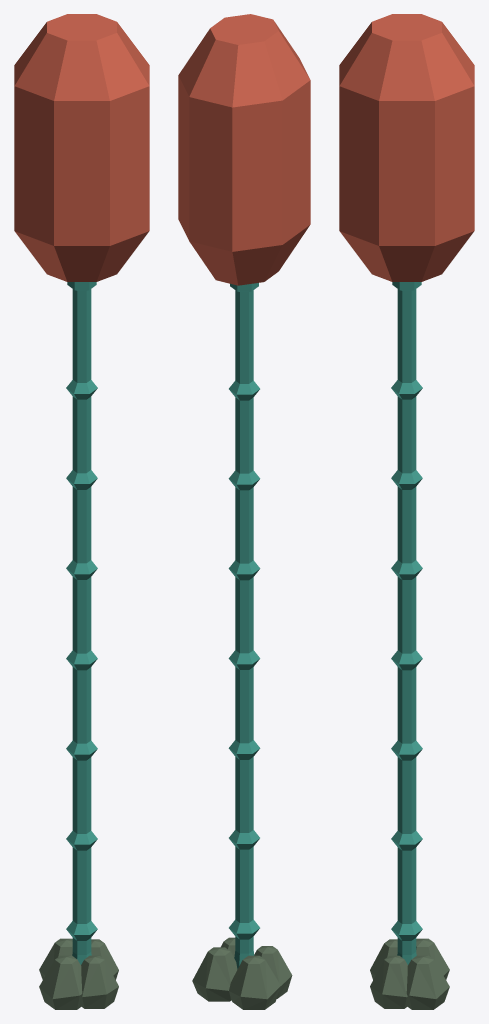
The model's file is dive-marker-buoy-21beb7.glb.
3 views of the same model, side by side, from view 1: azimuth 90°, elevation 25°; view 2: azimuth 150°, elevation 25°; view 3: azimuth 270°, elevation 25° (orthographic).
Visible parts, largest first — view 1: buoy, algae-crust; view 2: buoy, algae-crust; view 3: buoy, algae-crust.
Boxes of the visible parts, <box> form: buoy: <box>14,14,149,964</box>; algae-crust: <box>39,938,118,1009</box>; buoy: <box>178,14,310,969</box>; algae-crust: <box>192,937,292,1009</box>; buoy: <box>339,14,474,964</box>; algae-crust: <box>370,938,449,1009</box>.
Bounding box in the file's own units: 0.34 × 3 × 0.38.
